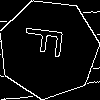F: (23, 23, 73, 60)
